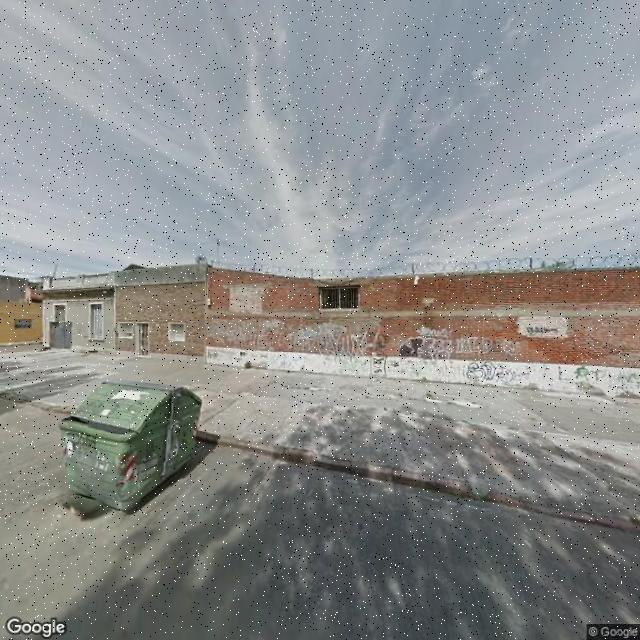garbage container: (49, 367, 229, 529)
